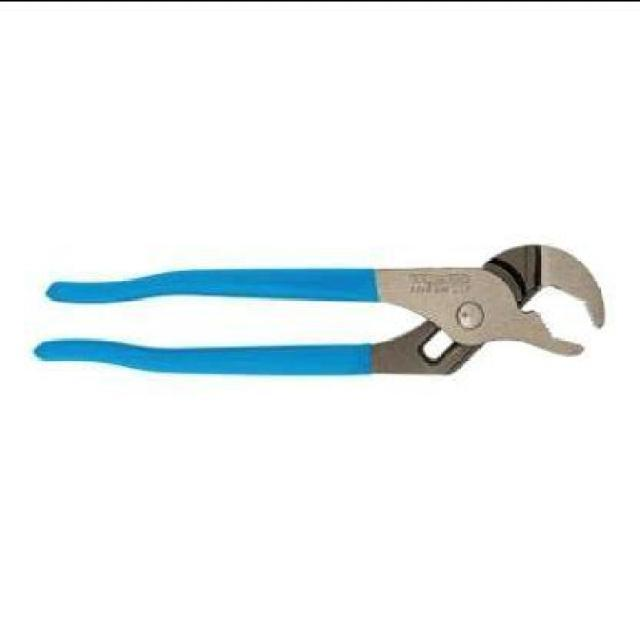pliers: (31, 239, 604, 393)
